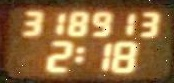1: (98, 42, 112, 71), (123, 12, 137, 36), (53, 11, 66, 35)
2: (44, 39, 73, 72)
3: (20, 9, 42, 36), (138, 10, 160, 37)
8: (109, 40, 138, 73), (65, 9, 88, 36)
9: (89, 10, 112, 37)
X: (72, 44, 84, 62)
